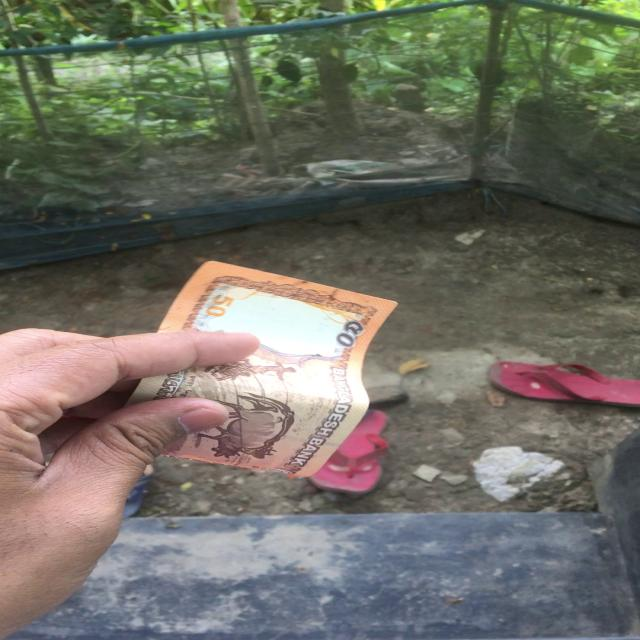Taka: (148, 267, 402, 475)
